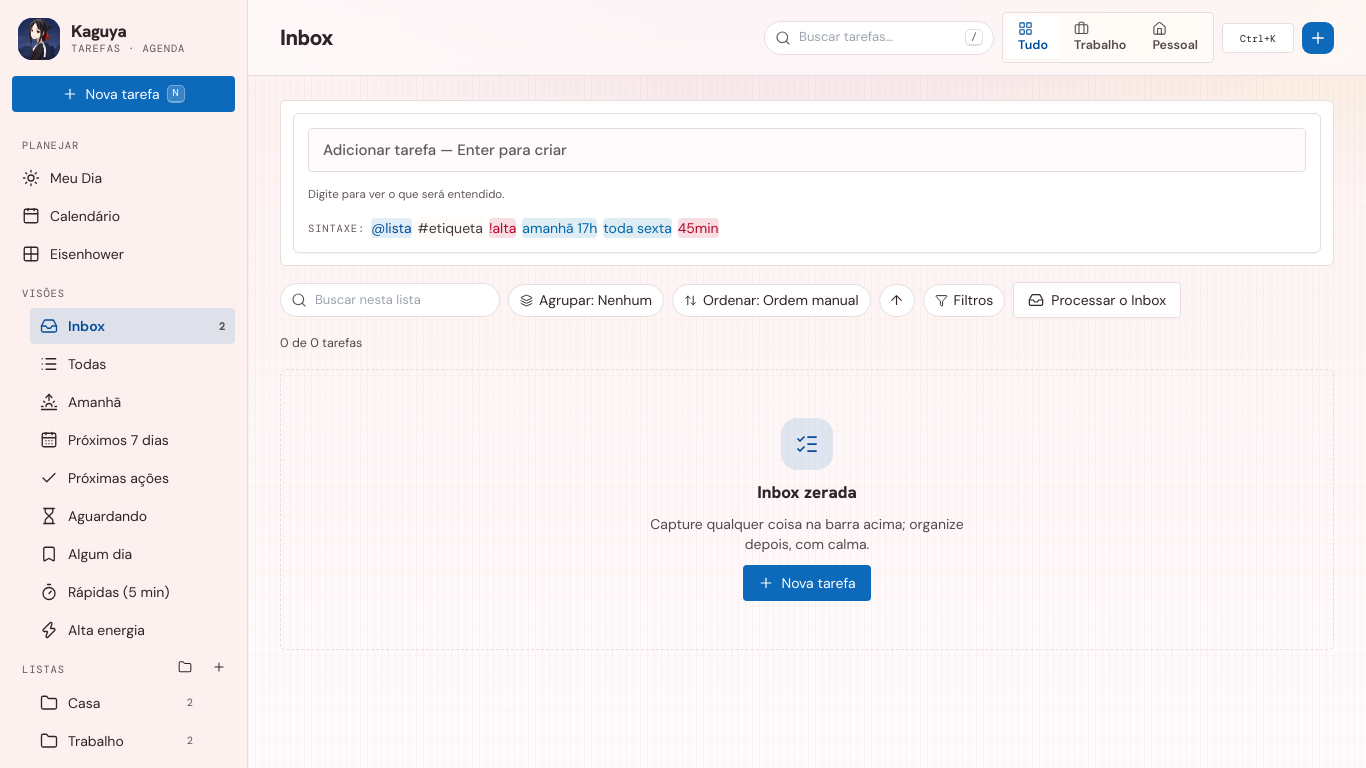
Test: Processar o Inbox › mostra um item por vez com o progresso
The image size is (1366, 768).
Click the button "Processar o Inbox" at (1097, 300), box [1013,282,1181,318]
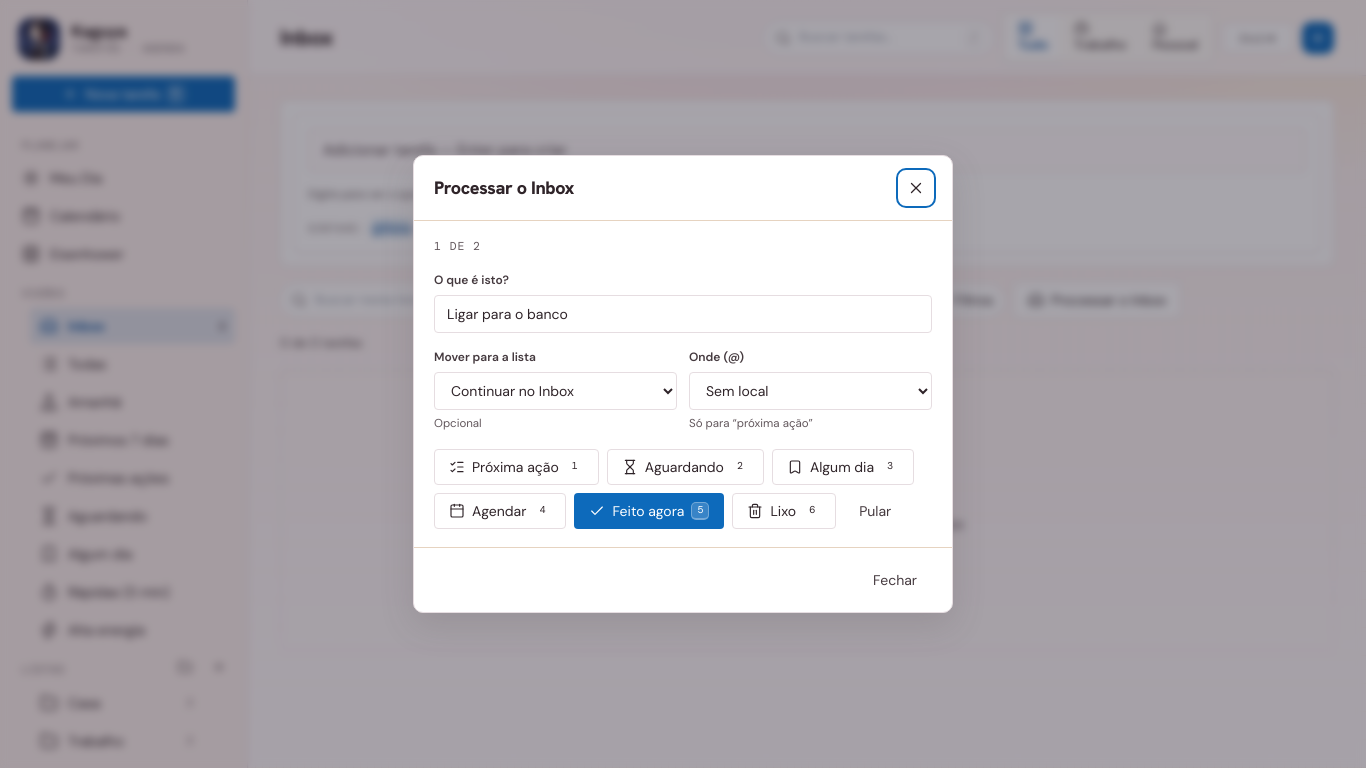
Check: the field showing "Ligar para o banco" is shown, box [434,295,932,333]
Check: the text "1 de 2" is shown, box [434,239,481,254]
